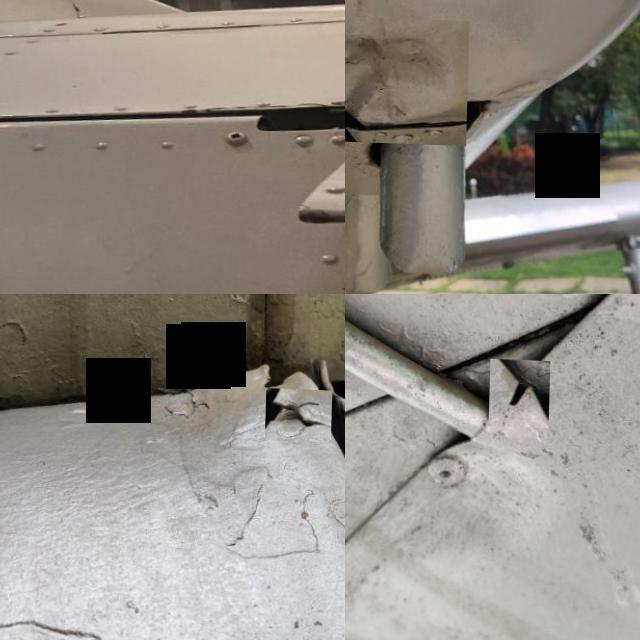Crack: (490, 356, 552, 426), (266, 386, 334, 439), (0, 107, 38, 121)
Dent: (345, 11, 471, 143)
